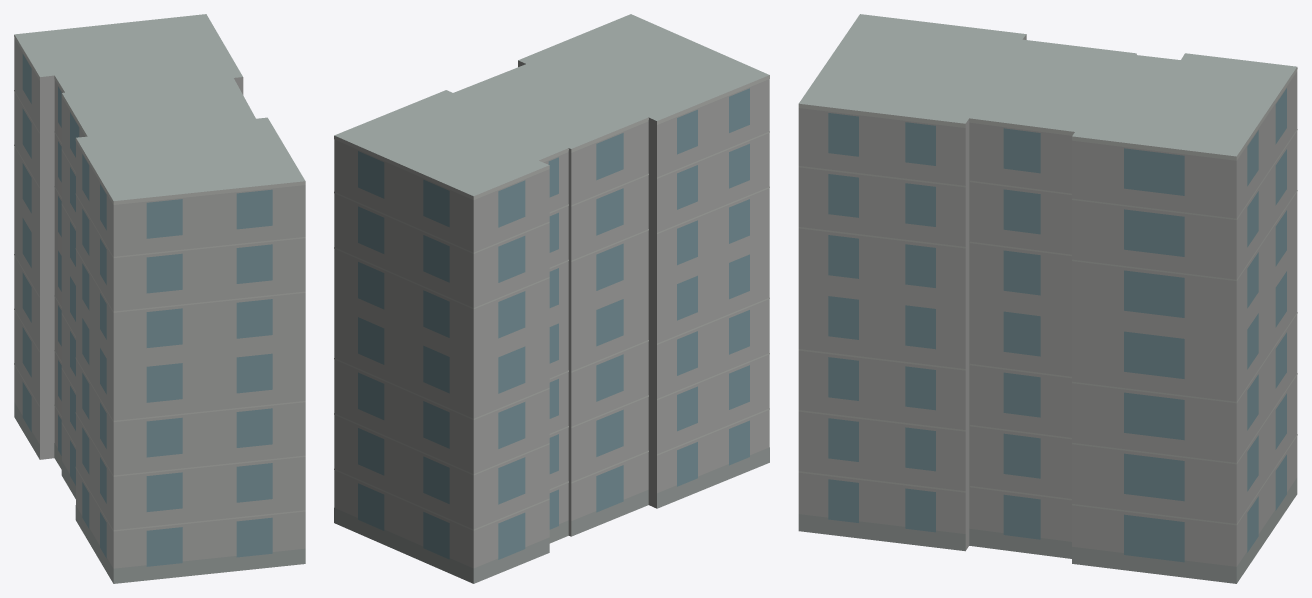
The model's file is survey-upis-32880478.glb.
3 views of the same model, side by side, from view 1: azimuth 30°, elevation 25°; view 2: azimuth 150°, elevation 25°; view 3: azimuth 270°, elevation 25° (orthographic). The views are drawn at different scales.
Parts seen in each view (by area): view 1: survey-upis-32880478.tmp; view 2: survey-upis-32880478.tmp; view 3: survey-upis-32880478.tmp.
Part boxes in pixels (x1,y1,x2,y2): survey-upis-32880478.tmp: (14, 14, 305, 583); survey-upis-32880478.tmp: (334, 14, 769, 583); survey-upis-32880478.tmp: (798, 14, 1297, 583).
Bounding box in the file's own units: 17.4 × 24.3 × 25.72.
